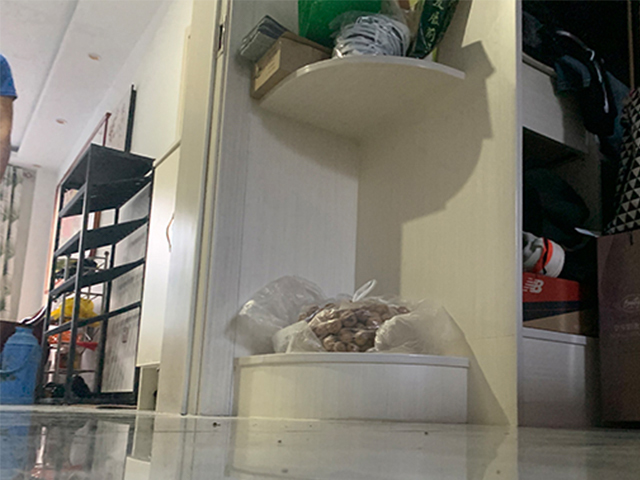cabinet: (188, 1, 599, 430)
